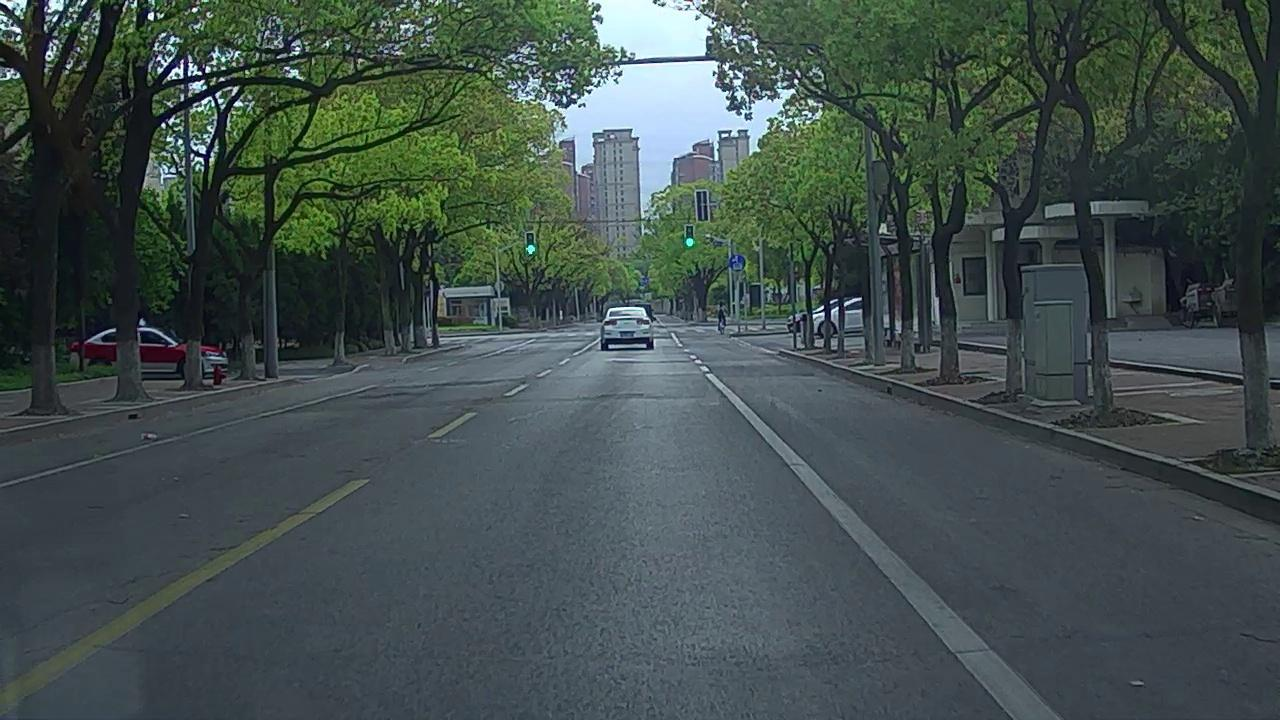traffic_light: (685, 224, 695, 249), (526, 233, 535, 259)
